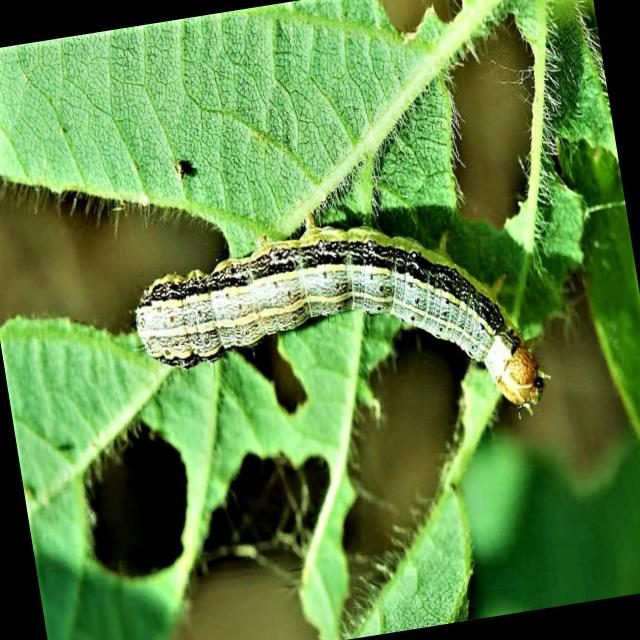Armyworm: (118, 168, 565, 522)
Armyworm_damage: (278, 311, 508, 640), (411, 4, 579, 286), (49, 367, 227, 624)
